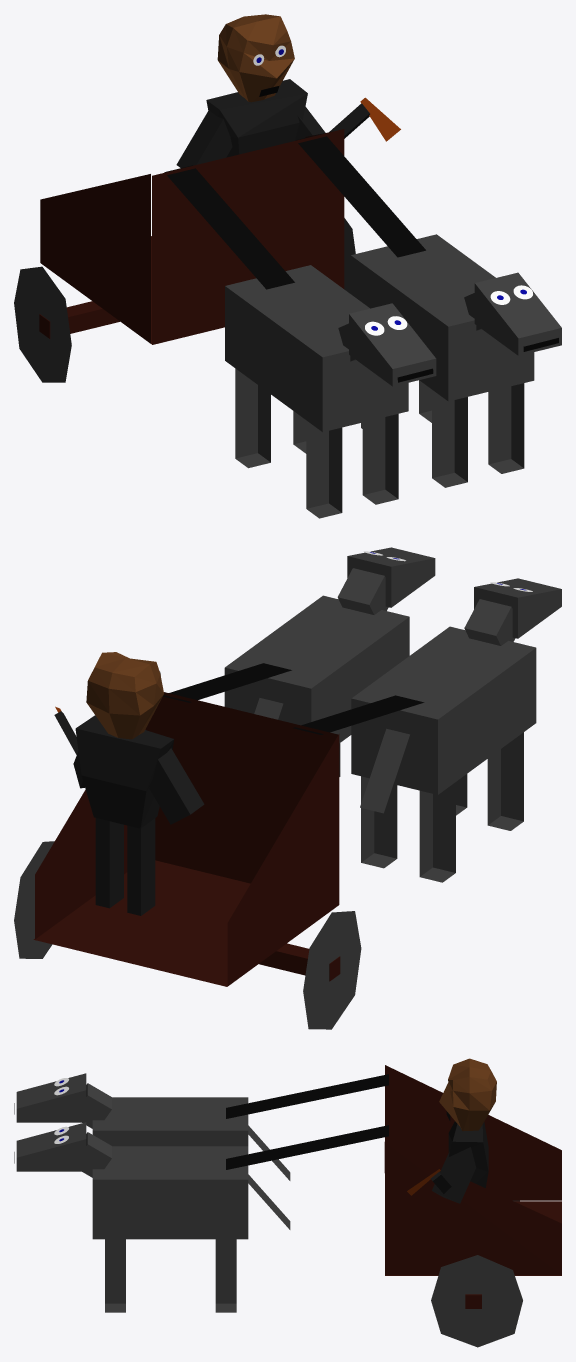
Rendered from lightchariot1f.obj.
The picture shows the model from 3 angles, top to bottom: view 1: azimuth 30°, elevation 25°; view 2: azimuth 150°, elevation 25°; view 3: azimuth 270°, elevation 25°; orthographic projection. The views are drawn at different scales.
Parts seen in each view (by area): view 1: Plane.005_Plane.006, Cube.015_Cube.017, Cube.006_Cube.009, Plane.003, Plane.007_Plane.008, Cube, Cube.001, Cube.014_Cube.016, Cube.021_Cube.023, Plane.012_Plane.013, Plane.013_Plane.014, Cube.019_Cube.021 (+7 smaller); view 2: Plane.005_Plane.006, Cube.015_Cube.017, Cube.006_Cube.009, Plane.002, Plane.003, Cube.001, Plane.004, Cube, Plane.007_Plane.008, Cube.016_Cube.018, Cube.019_Cube.021, Cube.014_Cube.016 (+12 smaller); view 3: Plane.004, Cube.006_Cube.009, Plane.003, Cube.015_Cube.017, Plane.006_Plane.007, Cube, Cube.014_Cube.016, Cube.021_Cube.023, Plane.012_Plane.013, Plane.013_Plane.014, Cube.010_Cube.012, Cube.011_Cube.013 (+6 smaller).
Part boxes in pixels (x1,y1,x2,y2): Plane.005_Plane.006: (152, 129, 344, 344); Cube.015_Cube.017: (225, 265, 408, 432); Cube.006_Cube.009: (350, 234, 534, 401); Plane.003: (40, 174, 150, 343); Plane.007_Plane.008: (14, 266, 71, 382); Cube: (217, 14, 294, 102); Cube.001: (206, 79, 307, 157); Cube.014_Cube.016: (474, 272, 561, 355); Cube.021_Cube.023: (349, 303, 436, 386); Plane.012_Plane.013: (164, 165, 294, 289); Plane.013_Plane.014: (295, 133, 425, 257); Cube.019_Cube.021: (306, 420, 342, 518); Plane.005_Plane.006: (146, 692, 338, 883); Cube.015_Cube.017: (351, 626, 536, 794); Cube.006_Cube.009: (224, 595, 409, 743); Plane.002: (33, 860, 250, 986); Plane.003: (227, 734, 339, 986); Cube.001: (75, 715, 174, 828); Plane.004: (35, 729, 145, 939); Cube: (86, 652, 163, 739); Plane.007_Plane.008: (303, 911, 361, 1029); Cube.016_Cube.018: (419, 782, 455, 882); Cube.019_Cube.021: (487, 732, 523, 830); Cube.014_Cube.016: (347, 547, 435, 607); Plane.004: (384, 1142, 561, 1274); Cube.006_Cube.009: (92, 1146, 248, 1239); Plane.003: (385, 1065, 561, 1200); Cube.015_Cube.017: (92, 1097, 248, 1146); Plane.006_Plane.007: (431, 1255, 522, 1347); Cube: (439, 1058, 496, 1131); Cube.014_Cube.016: (16, 1122, 86, 1171); Cube.021_Cube.023: (16, 1073, 86, 1122); Plane.012_Plane.013: (226, 1074, 388, 1118); Plane.013_Plane.014: (226, 1125, 388, 1169); Cube.010_Cube.012: (215, 1239, 236, 1312); Cube.011_Cube.013: (105, 1239, 125, 1312).
Bounding box in the file's own units: 7.88 × 7.5 × 14.9.
